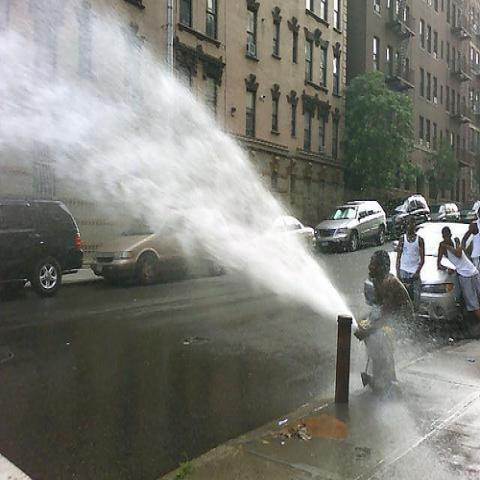car: (89, 196, 225, 282), (363, 220, 469, 329), (0, 198, 86, 302), (314, 200, 388, 253), (381, 192, 431, 242), (271, 216, 315, 251), (430, 201, 462, 220), (460, 198, 479, 224)
